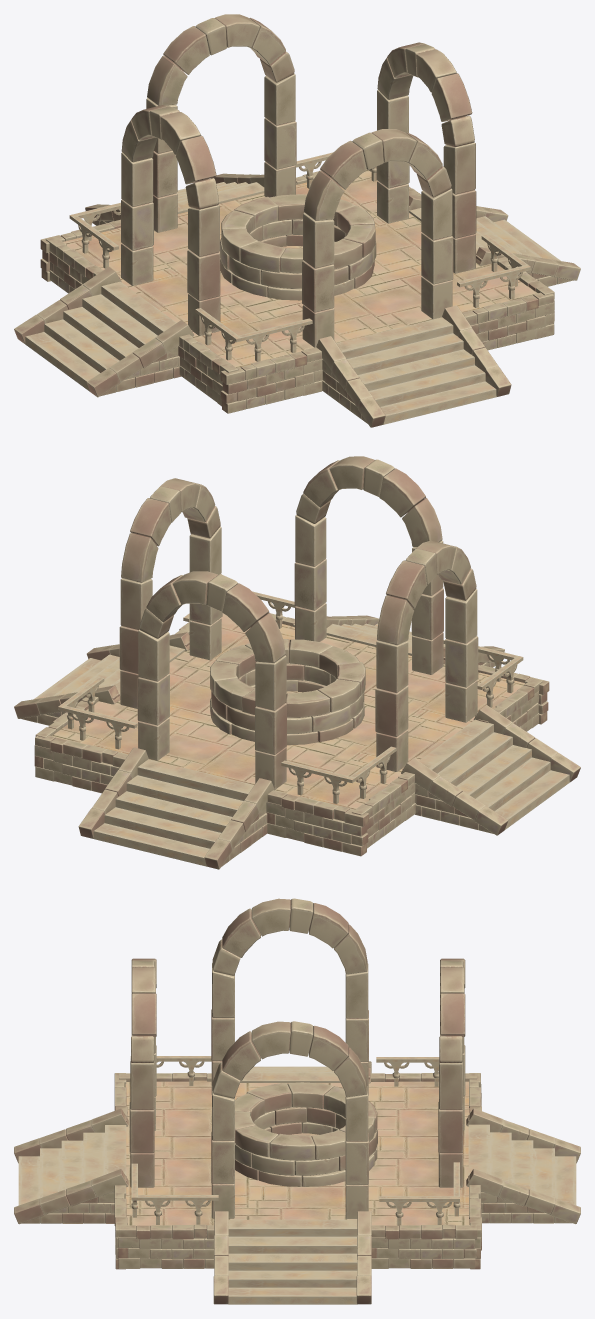
The model's file is dungeon4.fbx.
3 views of the same model, one above another, from view 1: azimuth 30°, elevation 25°; view 2: azimuth 150°, elevation 25°; view 3: azimuth 270°, elevation 25° (orthographic).
Parts seen in each view (by area): view 1: dungeon4_LOD0; view 2: dungeon4_LOD0; view 3: dungeon4_LOD0.
Boxes of the visible parts, <box> form: dungeon4_LOD0: <box>14,14,580,427</box>; dungeon4_LOD0: <box>14,456,580,869</box>; dungeon4_LOD0: <box>14,898,580,1304</box>.
Bounding box in the file's own units: 12.83 × 5.76 × 13.14.
